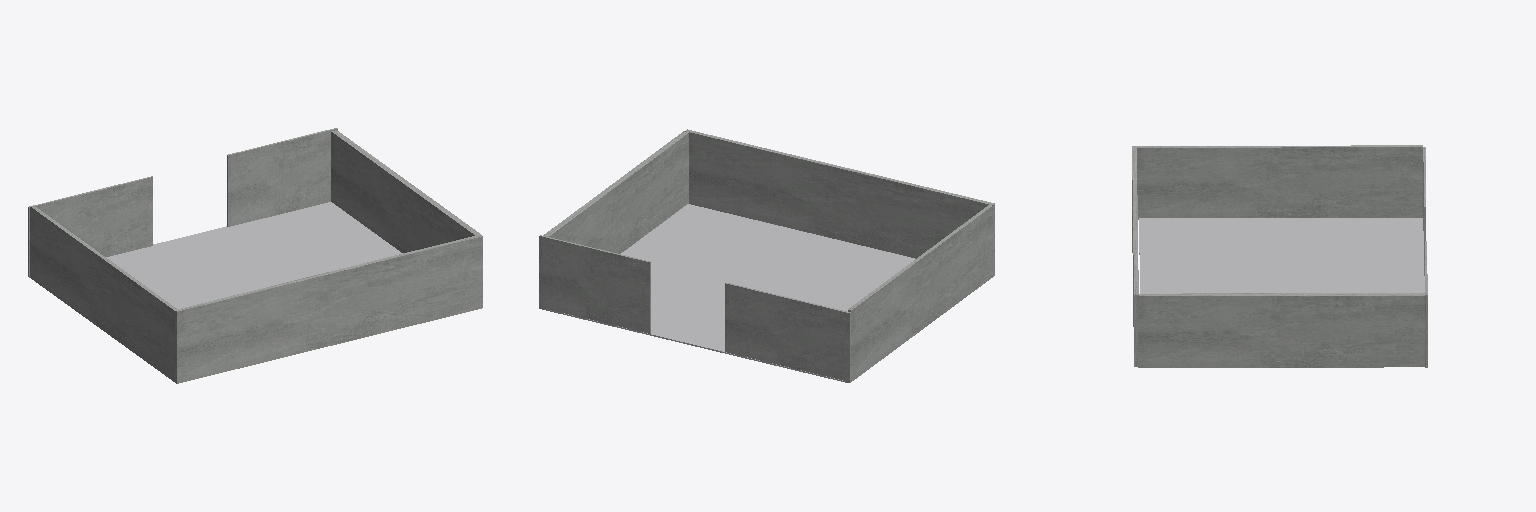
3 views of the same model, side by side, from view 1: azimuth 30°, elevation 25°; view 2: azimuth 150°, elevation 25°; view 3: azimuth 270°, elevation 25° (orthographic).
Parts seen in each view (by area): view 1: sala1; view 2: sala1; view 3: sala1.
Boxes of the visible parts, x1,y1,x2,y2 form: sala1: [28, 128, 482, 383]; sala1: [539, 129, 994, 382]; sala1: [1132, 145, 1427, 367].
Bounding box in the file's own units: 18.56 × 4.17 × 15.34.
3 materials, 2 textured.